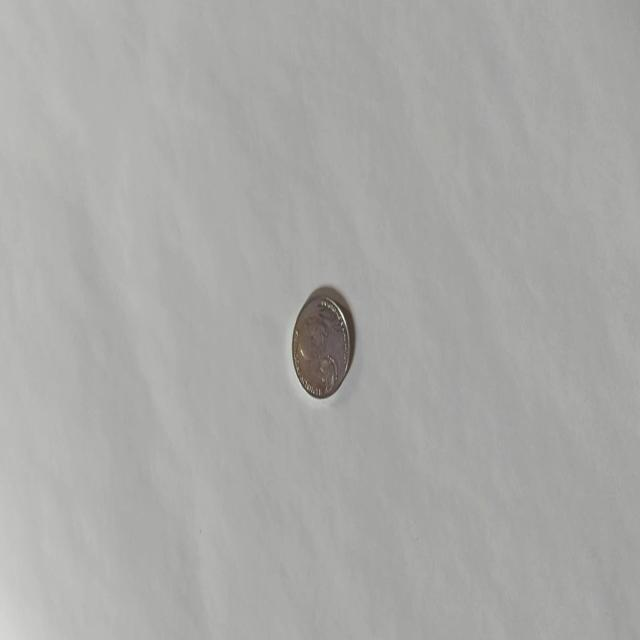lima ratus rupiah: (290, 290, 352, 400)
